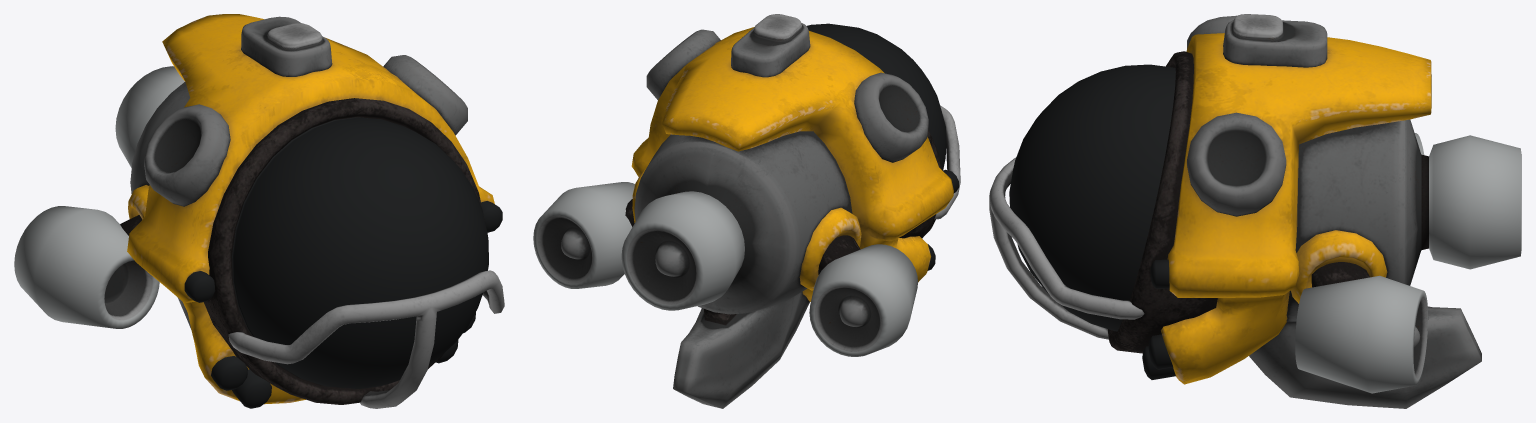
The model's file is yellow_submarine.glb.
3 renders of one model, left to right at view 1: azimuth 30°, elevation 25°; view 2: azimuth 150°, elevation 25°; view 3: azimuth 270°, elevation 25°, orthographic. The views are drawn at different scales.
Parts seen in each view (by area): view 1: Object_2; view 2: Object_2; view 3: Object_2.
Part boxes in pixels (bbox=[...]): Object_2: bbox=[14, 14, 504, 408]; Object_2: bbox=[533, 14, 960, 408]; Object_2: bbox=[989, 14, 1521, 408].
Bounding box in the file's own units: 195 × 173 × 219.
1 material, 1 textured.
